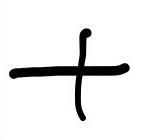plus: (10, 27, 128, 120)
